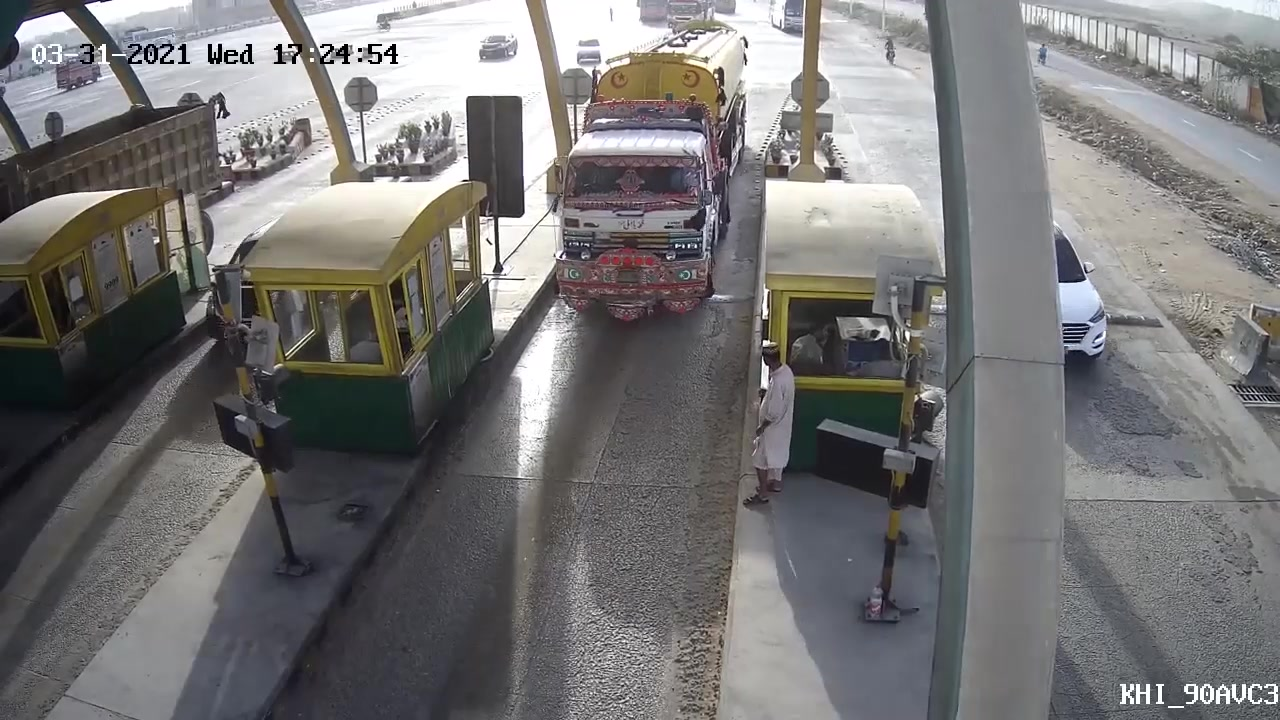F6: (547, 16, 752, 326)
